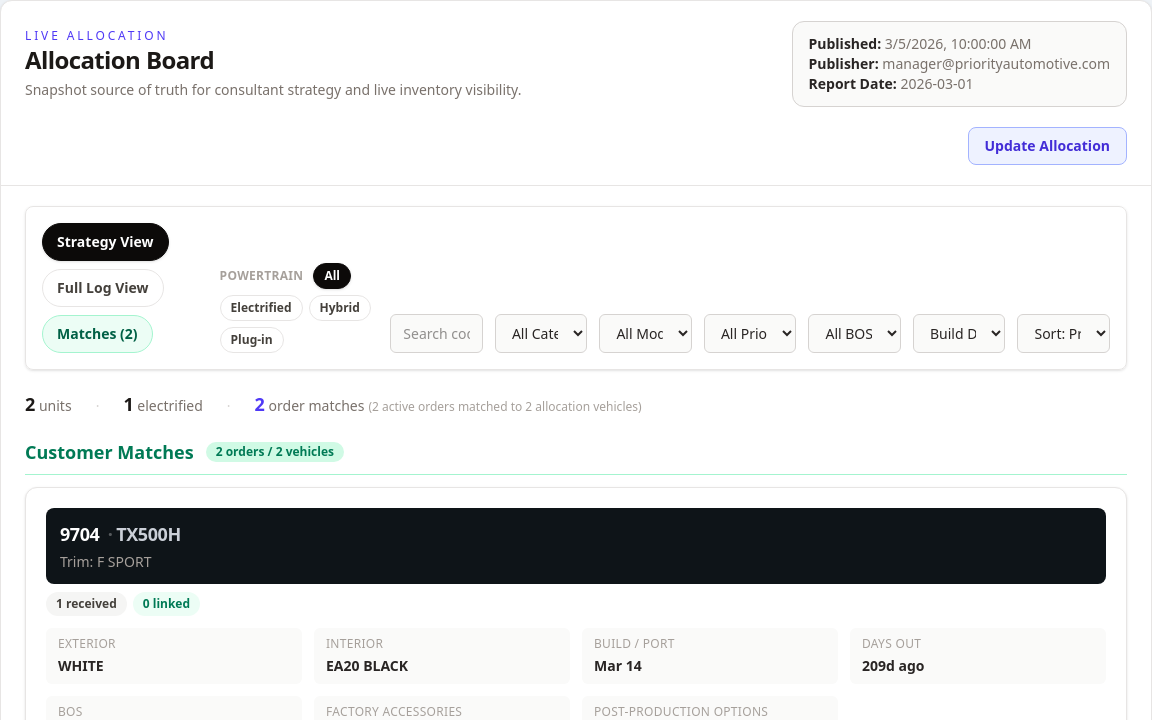
Test: AllocationBoard › order matching › shows matched orders in log view for managers
Click the tab "Full Log View" at point(103, 288), box [42,269,164,307]
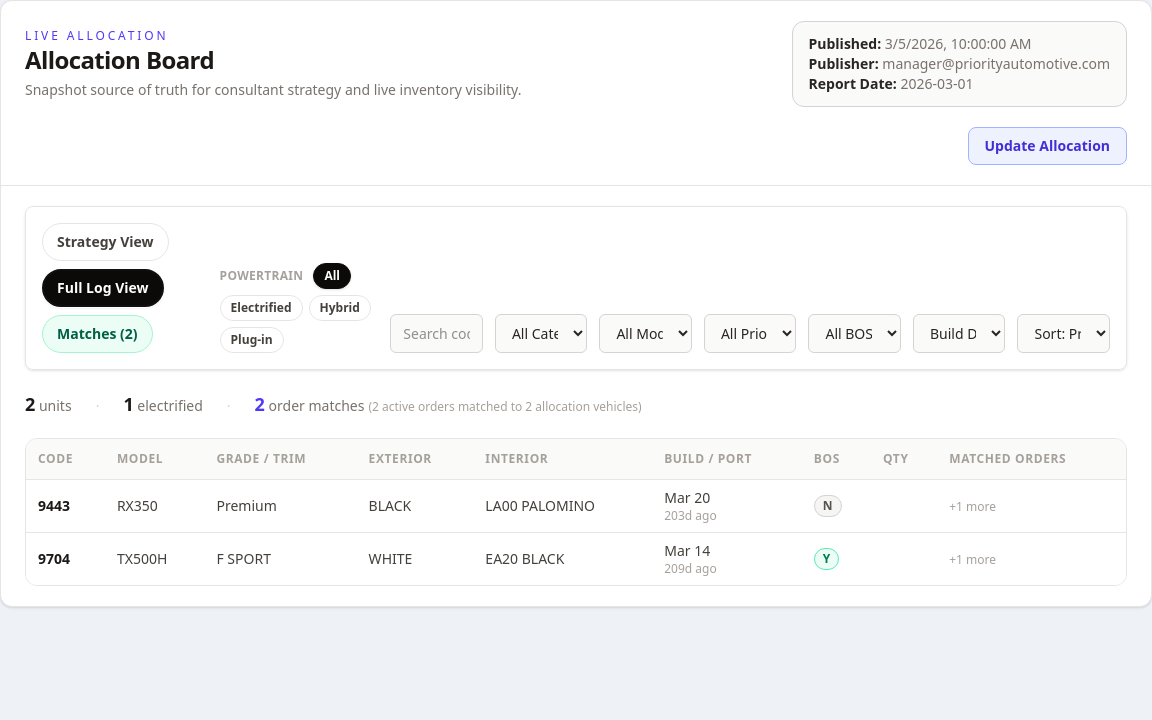
Expected: the text "+1 more" in the row of "9443" is shown, [949,498,996,515]
